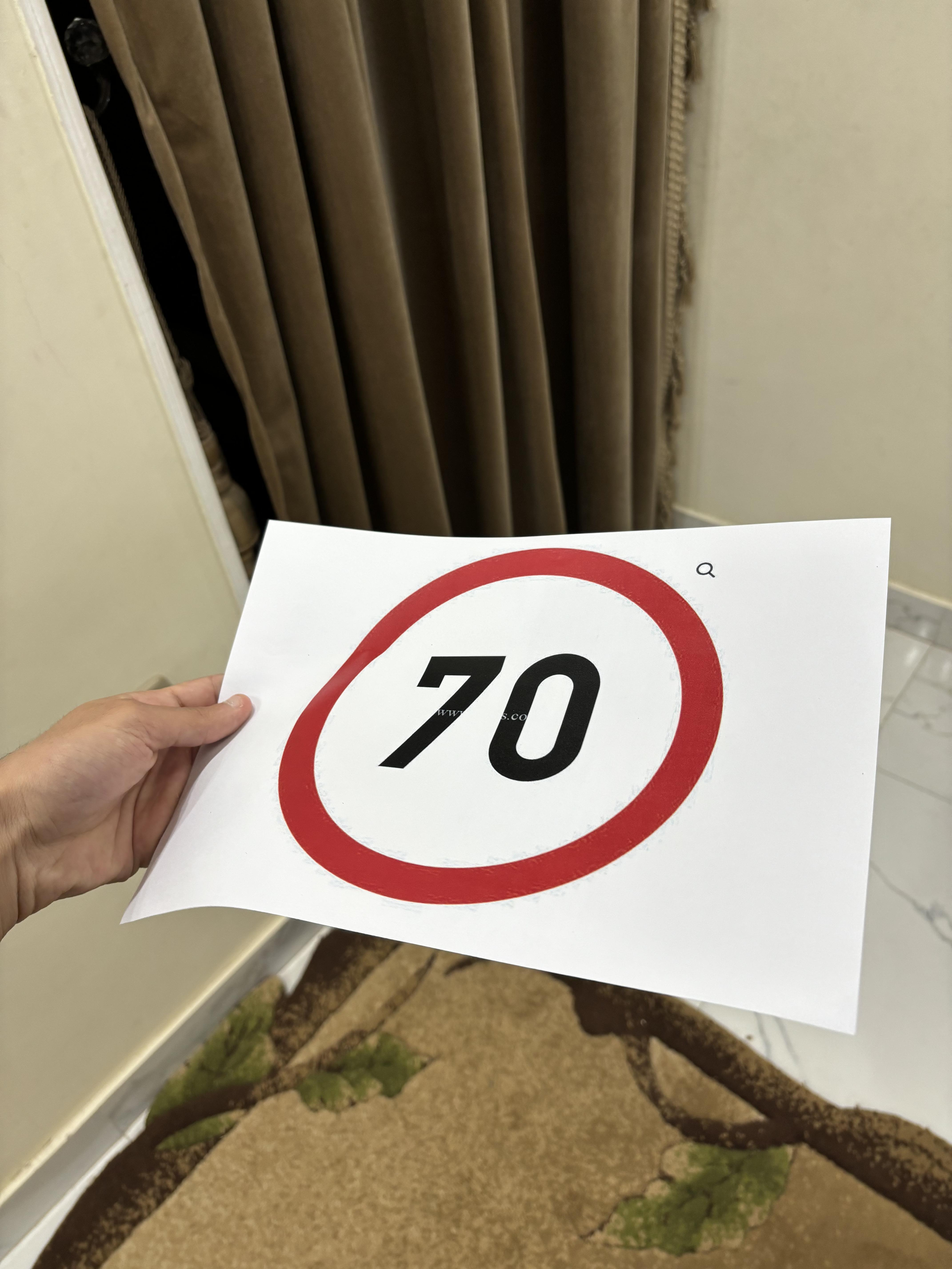70-Speed: (276, 545, 728, 904)
